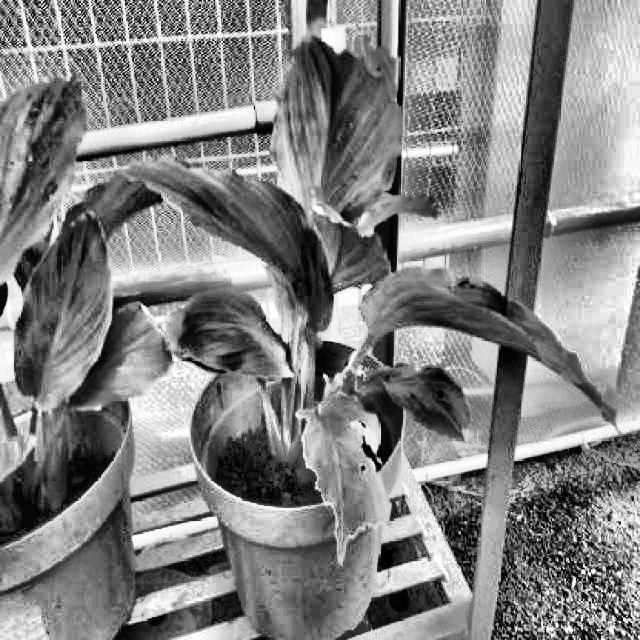plants: (106, 39, 616, 558), (0, 74, 183, 514)
